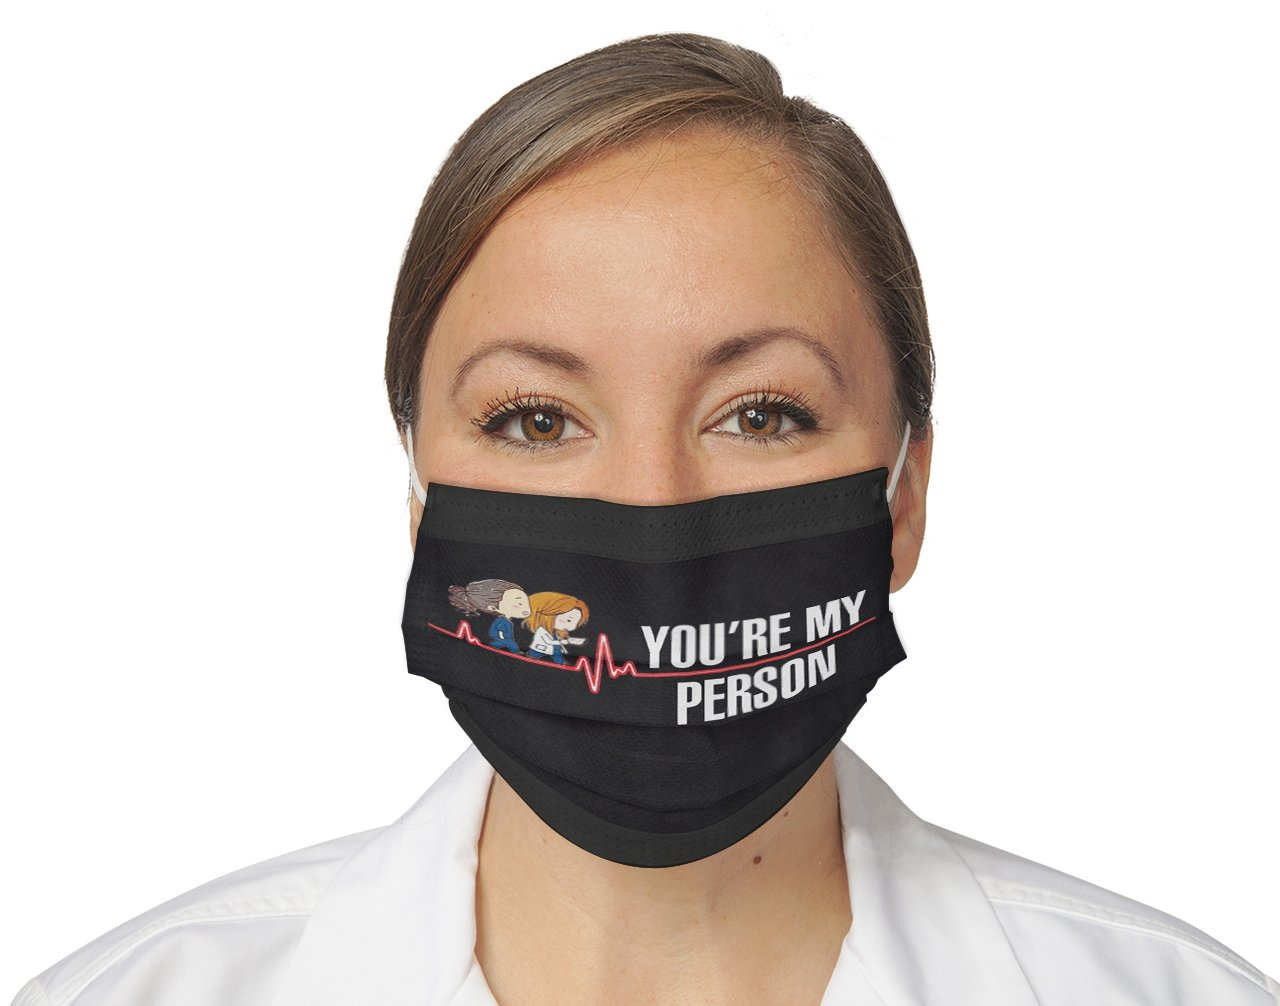mask: (386, 462, 944, 873)
